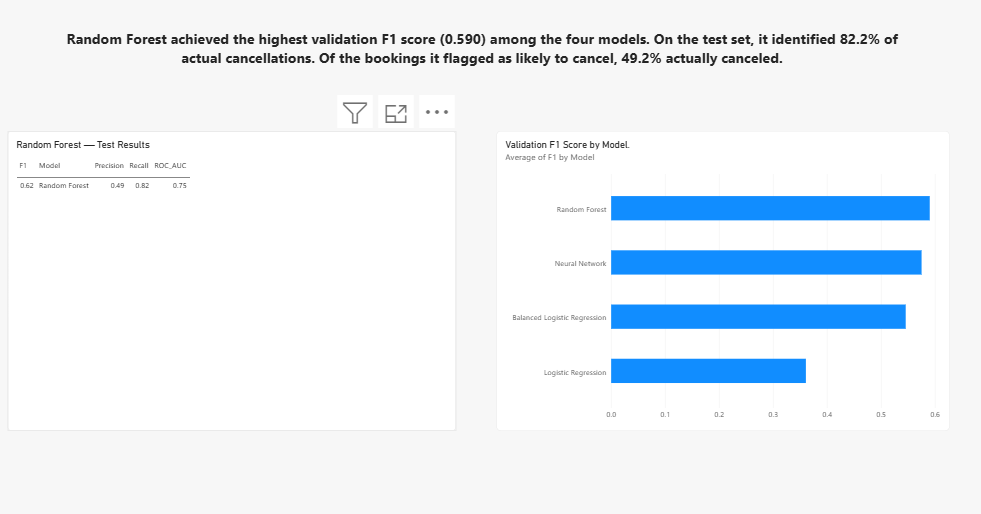

The page's visual inventory and layout, read from the dashboard file:
{"tool":"powerbi","page":{"name":"Model Performance","canvas":[1920,1080],"ordinal":2},"visuals":[{"type":"clusteredBarChart","title":"Validation F1 Score by Model.","fields":{"Category":["model_validation_comparison.Model"],"Y":["Avg(model_validation_comparison.F1)"]},"box":[961,255.1,856.1,566.9],"z":0},{"type":"tableEx","title":"Random Forest — Test Results","fields":{"Values":["model_test_results.F1","model_test_results.Model","model_test_results.Precision","model_test_results.Recall","model_test_results.ROC_AUC"]},"box":[36.9,255.1,847.6,566.9],"z":1},{"type":"textbox","box":[68,62.4,1689.5,87.9],"z":2}]}

Visuals, with their boxes on the page's 1920x1080 design canvas (x1, y1, x2, y2). These are canvas units, not pixel positions in the 981x514 screenshot, which may show the page scaled, cropped or inside an application window:
"Validation F1 Score by Model." clusteredBarChart: Rect(961, 255, 1817, 822)
"Random Forest — Test Results" tableEx: Rect(37, 255, 884, 822)
textbox: Rect(68, 62, 1758, 150)
